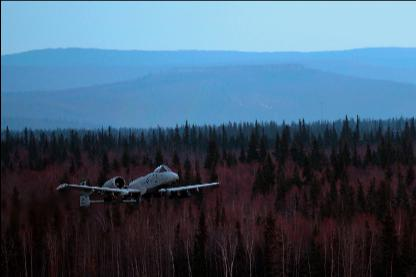A10: (56, 165, 222, 207)
